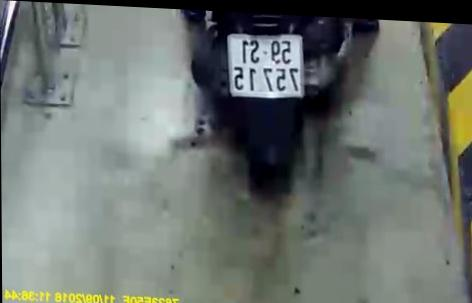License_Plate: (218, 26, 315, 107)
